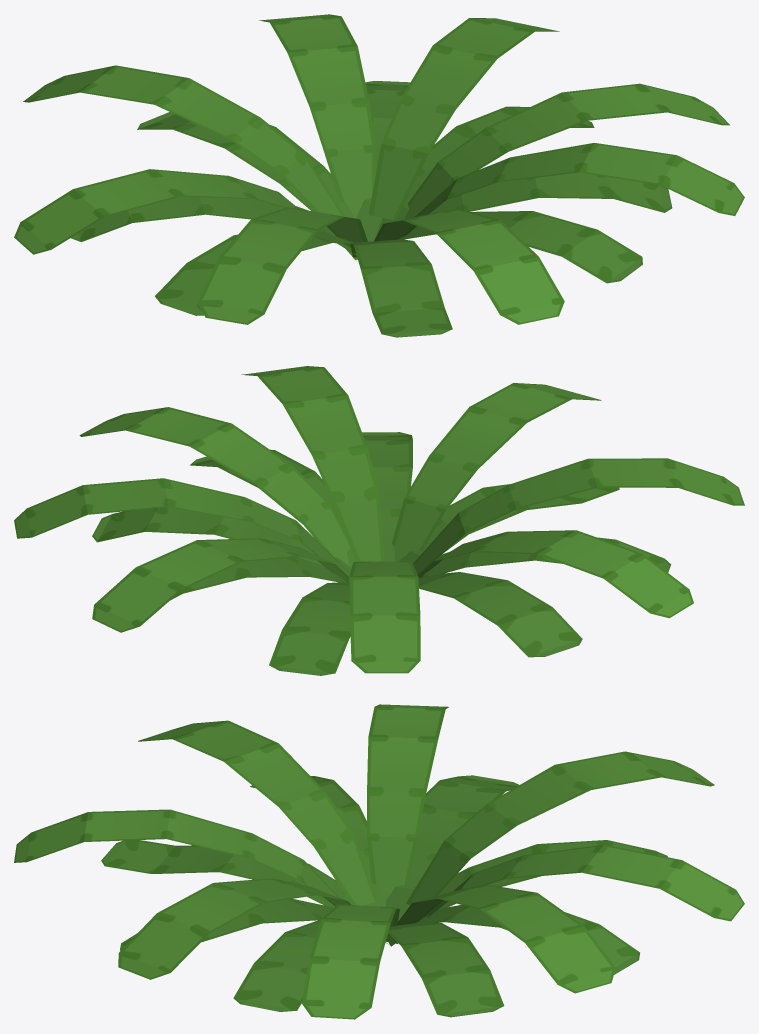
The model's file is Dino_Vege_Fern_A.fbx.
3 renders of one model, top to bottom at view 1: azimuth 30°, elevation 25°; view 2: azimuth 150°, elevation 25°; view 3: azimuth 270°, elevation 25°, orthographic. The views are drawn at different scales.
Parts seen in each view (by area): view 1: Dino_Vege_Fern_A_mesh; view 2: Dino_Vege_Fern_A_mesh; view 3: Dino_Vege_Fern_A_mesh.
Part boxes in pixels (x1=…): Dino_Vege_Fern_A_mesh: x1=14, y1=14, x2=744, y2=337; Dino_Vege_Fern_A_mesh: x1=14, y1=366, x2=744, y2=675; Dino_Vege_Fern_A_mesh: x1=14, y1=704, x2=744, y2=1019.
Bounding box in the file's own units: 20.49 × 3.53 × 20.18.
